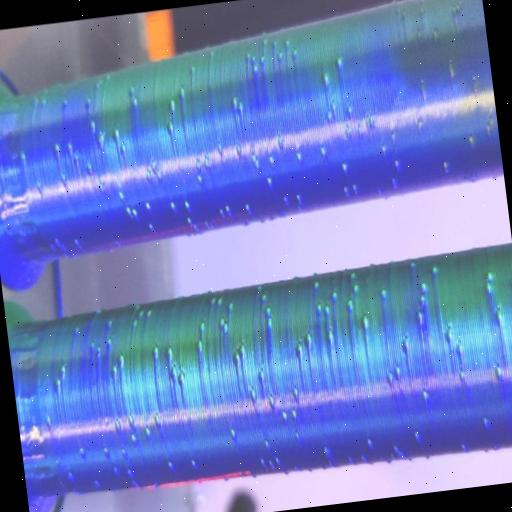blobs: (334, 48, 352, 74), (356, 312, 373, 333), (452, 339, 466, 363), (113, 350, 129, 370), (302, 332, 318, 351), (48, 140, 64, 159), (162, 458, 178, 474), (98, 445, 114, 461), (318, 69, 330, 90), (292, 344, 306, 362), (216, 314, 230, 332), (362, 435, 378, 450), (166, 364, 181, 380), (86, 334, 101, 350), (103, 314, 116, 332), (124, 203, 138, 219), (440, 328, 454, 344), (226, 298, 240, 314), (186, 456, 202, 470), (478, 415, 492, 431), (72, 234, 86, 250), (56, 362, 70, 378), (66, 466, 78, 484), (238, 339, 248, 360), (319, 442, 332, 458), (411, 428, 424, 444), (42, 414, 55, 430), (96, 131, 108, 148), (420, 384, 432, 401), (440, 157, 452, 174), (123, 463, 134, 481), (149, 344, 160, 362), (392, 366, 405, 381), (166, 97, 178, 113), (84, 160, 96, 176), (416, 294, 428, 310), (266, 394, 278, 410), (248, 387, 260, 403), (228, 425, 240, 441), (214, 294, 226, 310), (108, 360, 120, 376), (58, 170, 70, 186), (70, 318, 82, 334), (430, 24, 441, 41), (399, 338, 412, 352), (389, 176, 402, 190), (482, 282, 495, 296), (88, 120, 99, 136), (176, 370, 187, 386), (141, 424, 152, 440), (65, 142, 76, 158), (292, 384, 302, 401), (126, 411, 136, 428), (322, 110, 334, 124), (234, 101, 246, 115), (228, 94, 240, 108), (392, 156, 404, 170), (350, 281, 362, 295), (260, 288, 272, 302), (493, 310, 505, 324), (314, 299, 325, 314), (256, 370, 266, 386), (232, 351, 242, 367), (271, 452, 281, 468), (82, 94, 92, 110), (493, 366, 505, 379), (94, 342, 106, 355), (339, 160, 350, 174), (484, 270, 495, 284), (177, 87, 187, 102), (206, 292, 216, 307), (106, 334, 116, 349), (344, 104, 356, 116), (294, 193, 306, 205), (340, 184, 352, 196), (130, 96, 142, 108), (146, 222, 158, 234), (430, 263, 442, 275), (260, 437, 272, 449), (196, 321, 208, 333), (458, 438, 470, 450), (60, 98, 72, 110), (281, 194, 292, 207), (115, 187, 126, 200), (264, 172, 274, 186), (166, 120, 176, 134), (118, 142, 128, 156), (416, 312, 426, 326), (346, 298, 356, 312), (322, 302, 332, 316), (265, 316, 275, 330), (128, 81, 138, 95), (188, 64, 198, 78), (378, 140, 388, 154), (446, 63, 456, 77), (466, 132, 476, 146), (318, 143, 327, 158), (182, 201, 193, 213), (256, 457, 268, 468), (129, 319, 140, 331), (244, 201, 254, 214), (112, 127, 122, 139), (280, 409, 290, 421), (164, 345, 174, 357), (52, 376, 62, 388), (111, 464, 121, 476), (386, 373, 395, 386), (93, 476, 102, 489), (218, 206, 226, 220), (420, 281, 428, 295), (289, 406, 297, 420), (128, 432, 136, 446), (78, 444, 86, 458), (194, 172, 205, 182), (331, 290, 342, 300), (151, 412, 162, 422), (16, 151, 26, 162), (330, 100, 339, 112), (215, 142, 224, 154), (380, 286, 389, 298), (264, 307, 273, 319), (294, 152, 304, 162), (222, 202, 232, 212), (235, 142, 243, 154), (168, 199, 176, 211), (196, 340, 204, 352), (136, 310, 144, 322), (271, 38, 278, 50), (290, 49, 298, 59), (284, 37, 292, 47), (250, 64, 258, 74), (146, 310, 154, 320), (507, 272, 512, 287), (277, 52, 284, 62), (259, 54, 266, 64), (269, 156, 277, 164), (251, 53, 258, 62), (147, 202, 153, 208)
